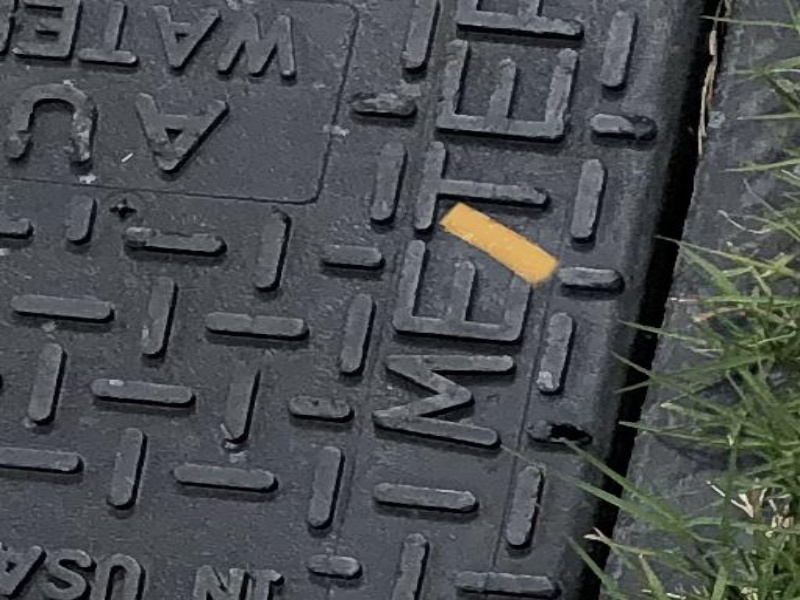cig: (441, 198, 568, 294)
